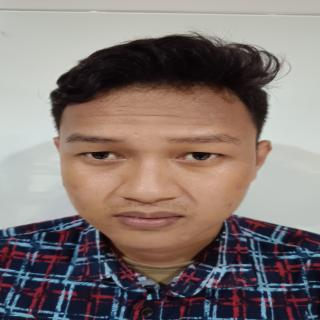Takut: (51, 75, 258, 256)
